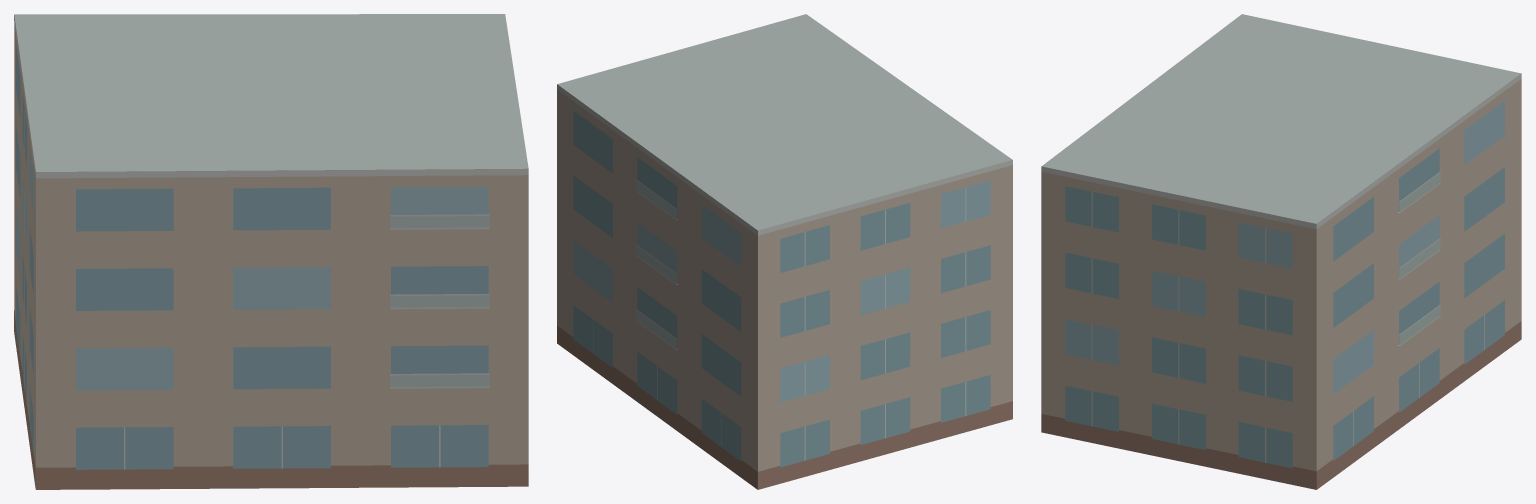
File: survey-upis-32645023.glb
3 renders of one model, left to right at view 1: azimuth 30°, elevation 25°; view 2: azimuth 150°, elevation 25°; view 3: azimuth 270°, elevation 25°, orthographic. The views are drawn at different scales.
Parts seen in each view (by area): view 1: survey-upis-32645023.tmp; view 2: survey-upis-32645023.tmp; view 3: survey-upis-32645023.tmp.
Boxes of the visible parts, x1,y1,x2,y2 form: survey-upis-32645023.tmp: [14, 14, 528, 489]; survey-upis-32645023.tmp: [557, 14, 1012, 489]; survey-upis-32645023.tmp: [1041, 14, 1521, 489].
Bounding box in the file's own units: 20.66 × 12.2 × 19.97.
